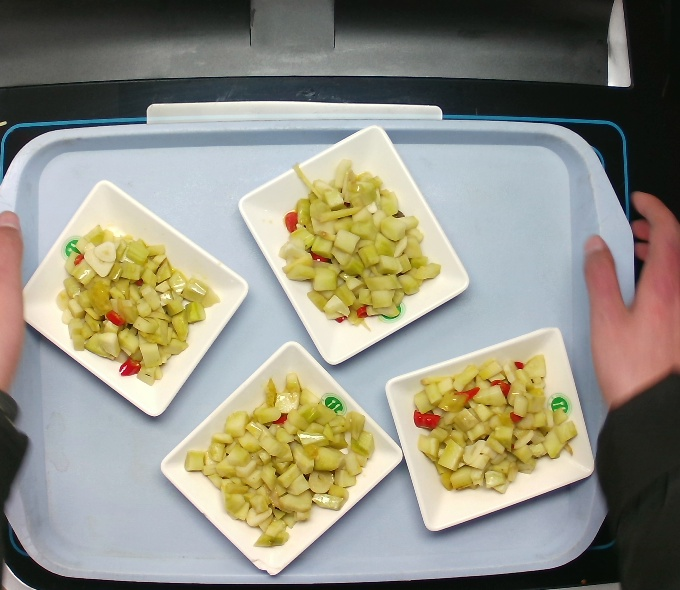wcq-YanHuaCaiGeng: (178, 369, 378, 554), (273, 150, 447, 334), (47, 218, 227, 393), (407, 344, 582, 502)
